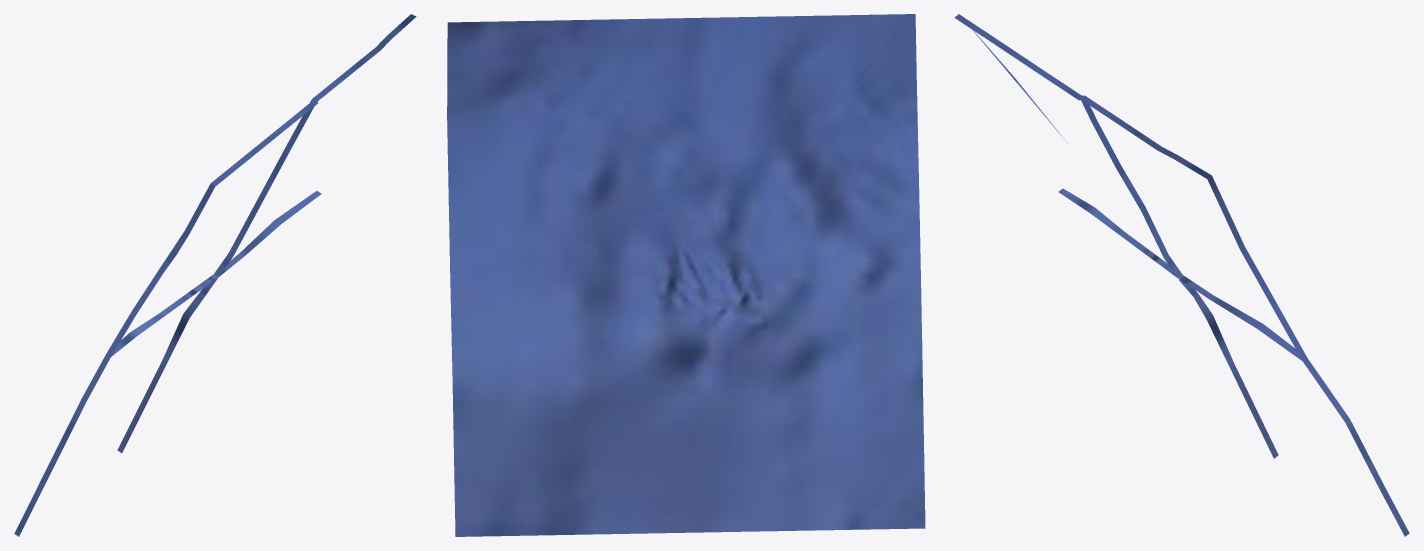
3 views of the same model, side by side, from view 1: azimuth 30°, elevation 25°; view 2: azimuth 150°, elevation 25°; view 3: azimuth 270°, elevation 25° (orthographic). The views are drawn at different scales.
Bounding box in the file's own units: 19912 × 17678 × 17563.
1 material, 1 textured.
